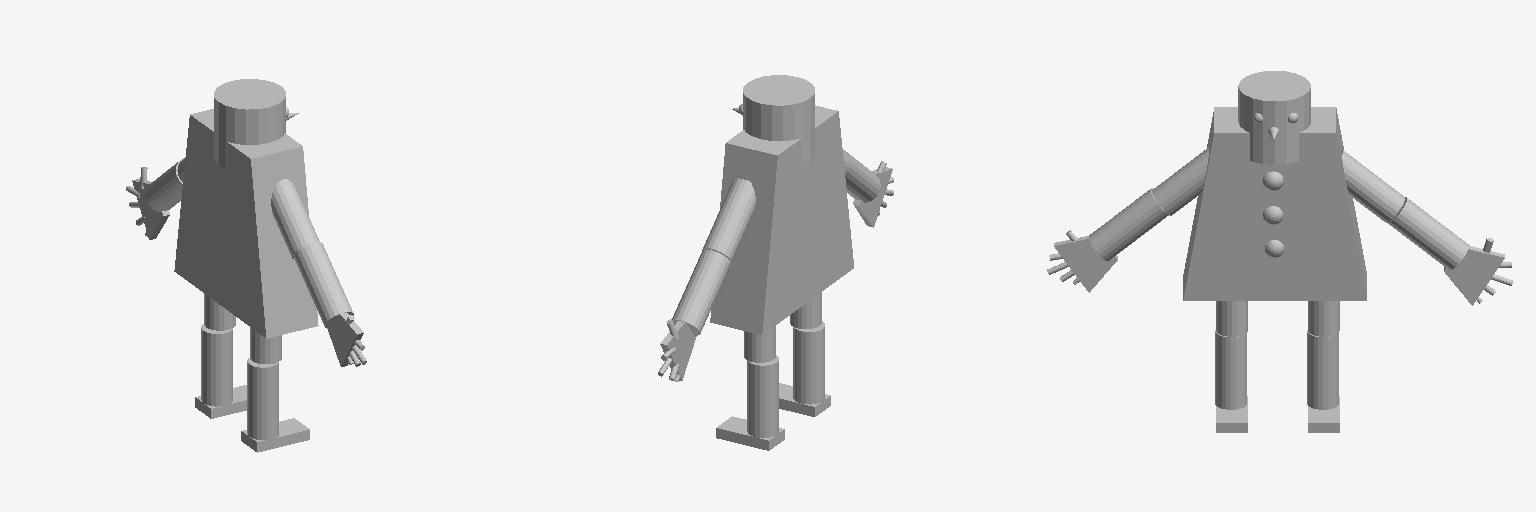
File: human.obj
3 renders of one model, left to right at view 1: azimuth 30°, elevation 25°; view 2: azimuth 150°, elevation 25°; view 3: azimuth 270°, elevation 25°, orthographic.
Parts seen in each view (by area): view 1: pCube1, pCylinder2, pasted__pCylinder1 group1, group2 pasted__pasted__pCylinder1 pasted__group1, group3 pasted__pasted__pCylinder1 pasted__group1, pCylinder1, group4 pasted__pasted__pCylinder1 pasted__group1, group2 pasted__pasted__pCube1 pasted__group, pasted__pCube2 group12, pasted__pCylinder1 group2, pCube2, pasted__pCube1 group (+1 smaller); view 2: pCube1, pCylinder2, group4 pasted__pasted__pCylinder1 pasted__group1, group2 pasted__pasted__pCylinder1 pasted__group1, group3 pasted__pasted__pCylinder1 pasted__group1, pasted__pCylinder1 group4, pasted__pCube1 group, pasted__pCylinder1 group1, pCube2, pasted__pCylinder1 group3, group2 pasted__pasted__pCube1 pasted__group, pasted__pCube2 group12 (+1 smaller); view 3: pCube1, pCylinder2, group4 pasted__pasted__pCylinder1 pasted__group1, pasted__pCylinder1 group1, group2 pasted__pasted__pCylinder1 pasted__group1, group3 pasted__pasted__pCylinder1 pasted__group1, pasted__pCylinder1 group4, pCylinder1, pCube2, pasted__pCube2 group12, pasted__pCylinder1 group2, pasted__pCylinder1 group3 (+2 smaller).
Part boxes in pixels (x1,y1,x2,y2): pCube1: (174, 109, 318, 338); pCylinder2: (214, 79, 285, 168); pasted__pCylinder1 group1: (293, 242, 353, 327); group2 pasted__pasted__pCylinder1 pasted__group1: (247, 358, 278, 440); group3 pasted__pasted__pCylinder1 pasted__group1: (201, 324, 232, 406); pCylinder1: (271, 179, 319, 258); group4 pasted__pasted__pCylinder1 pasted__group1: (145, 158, 183, 211); group2 pasted__pasted__pCube1 pasted__group: (241, 418, 309, 452); pasted__pCube2 group12: (327, 312, 363, 366); pasted__pCylinder1 group2: (250, 327, 281, 363); pCube2: (132, 179, 169, 239); pasted__pCube1 group: (195, 385, 246, 418); pCube1: (710, 105, 853, 334); pCylinder2: (743, 75, 814, 165); group4 pasted__pasted__pCylinder1 pasted__group1: (672, 250, 730, 335); group2 pasted__pasted__pCylinder1 pasted__group1: (793, 321, 824, 404); group3 pasted__pasted__pCylinder1 pasted__group1: (747, 355, 778, 437); pasted__pCylinder1 group4: (702, 178, 755, 262); pasted__pCube1 group: (716, 416, 784, 450); pasted__pCylinder1 group1: (843, 150, 880, 202); pCube2: (660, 321, 696, 380); pasted__pCylinder1 group3: (744, 326, 775, 362); group2 pasted__pasted__pCube1 pasted__group: (779, 383, 830, 416); pasted__pCube2 group12: (853, 167, 892, 227); pCube1: (1183, 107, 1366, 300); pCylinder2: (1238, 71, 1310, 164); group4 pasted__pasted__pCylinder1 pasted__group1: (1387, 197, 1468, 269); pasted__pCylinder1 group1: (1089, 188, 1168, 260); group2 pasted__pasted__pCylinder1 pasted__group1: (1215, 330, 1246, 409); group3 pasted__pasted__pCylinder1 pasted__group1: (1307, 330, 1338, 409); pasted__pCylinder1 group4: (1342, 150, 1404, 222); pCylinder1: (1152, 147, 1209, 215); pCube2: (1444, 245, 1504, 305); pasted__pCube2 group12: (1054, 236, 1117, 292); pasted__pCylinder1 group2: (1216, 301, 1247, 336); pasted__pCylinder1 group3: (1308, 301, 1339, 336).
Size of the model in its own units: 3.03 by 11.97 by 15.25.